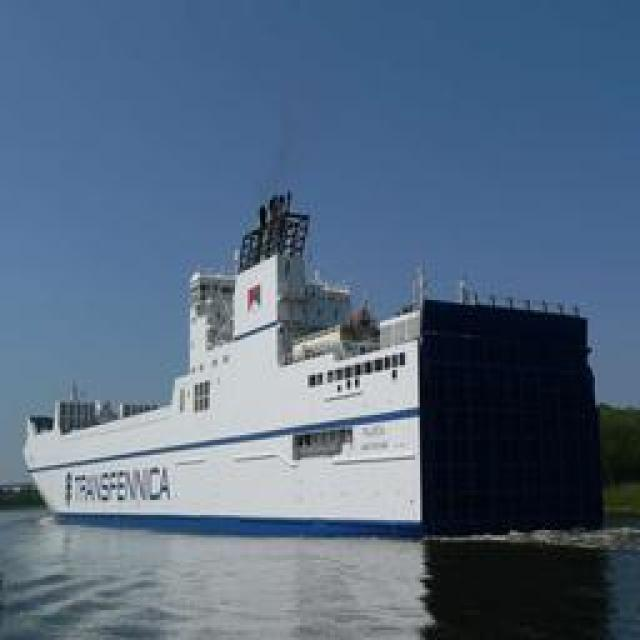CIV_Ship: (35, 162, 485, 532)
